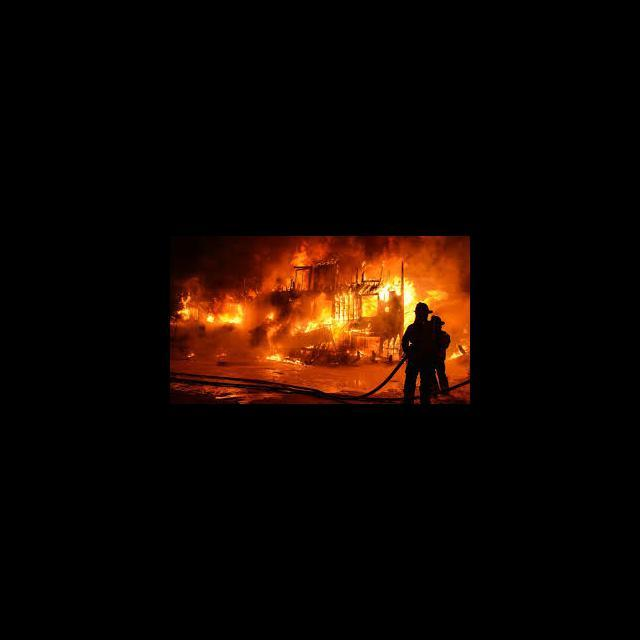Fire: (376, 270, 446, 306), (172, 296, 246, 328), (300, 299, 334, 334), (340, 266, 375, 292), (264, 352, 302, 371), (334, 294, 356, 320), (282, 270, 306, 292), (359, 292, 379, 318), (447, 343, 470, 361), (402, 304, 416, 328), (293, 243, 308, 265), (332, 321, 349, 339), (354, 345, 366, 358), (264, 310, 276, 322), (187, 351, 196, 359), (383, 306, 390, 313)
